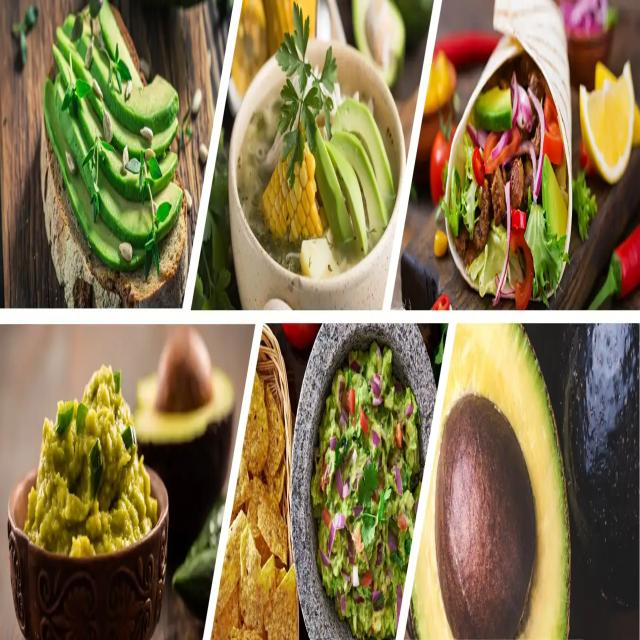aguacate: (442, 319, 576, 640), (38, 0, 182, 278)
